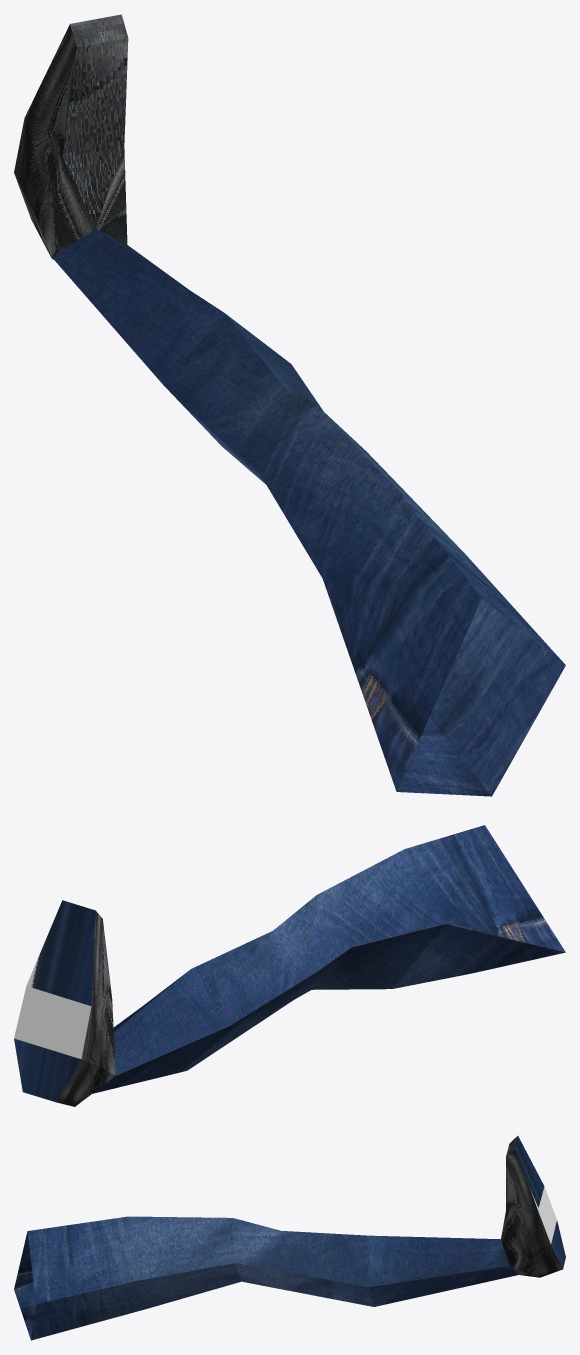
File: player leg1.glb
The picture shows the model from 3 angles, top to bottom: view 1: azimuth 30°, elevation 25°; view 2: azimuth 150°, elevation 25°; view 3: azimuth 270°, elevation 25°; orthographic projection. The views are drawn at different scales.
Visible parts, largest first — view 1: smoking dude_mesh_001; view 2: smoking dude_mesh_001; view 3: smoking dude_mesh_001.
Part boxes in pixels (<box>): smoking dude_mesh_001: <box>14,14,565,796</box>; smoking dude_mesh_001: <box>14,825,565,1106</box>; smoking dude_mesh_001: <box>14,1136,565,1340</box>.
Bounding box in the file's own units: 2.77 × 4.64 × 10.69.
Materials: 1 (1 with a texture image).
